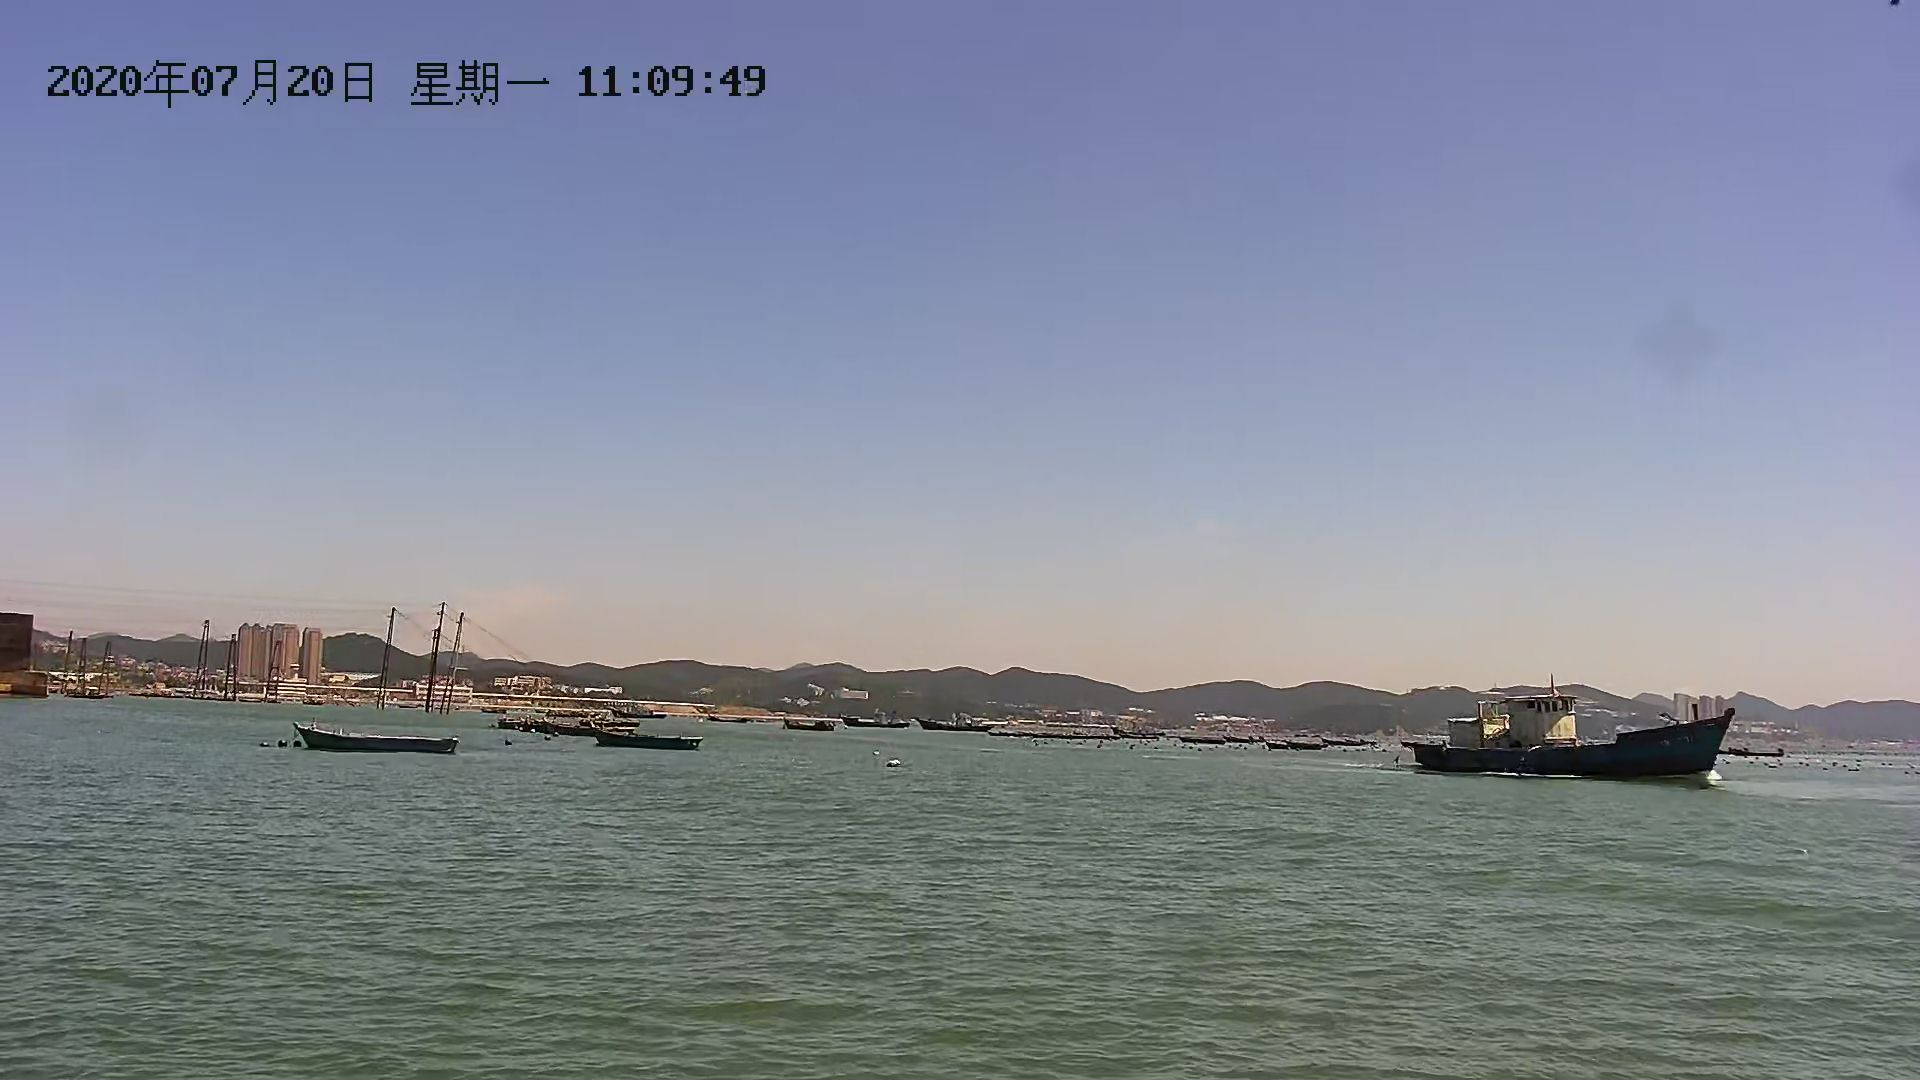boat: (285, 719, 469, 761), (599, 727, 709, 760), (518, 716, 634, 735)
ship: (1393, 687, 1735, 785)
